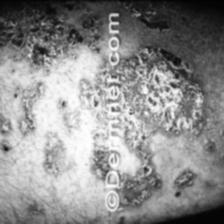Non-Cancerous Skin Condition: (0, 3, 100, 137), (124, 40, 204, 206), (129, 0, 171, 28)
